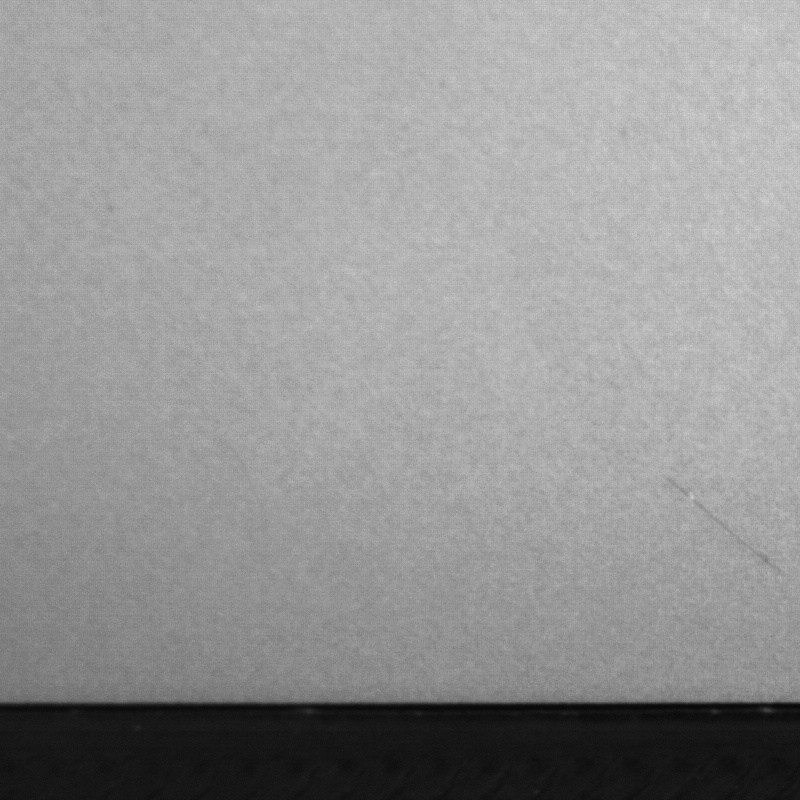defect: (666, 478, 785, 580), (103, 197, 127, 224)
